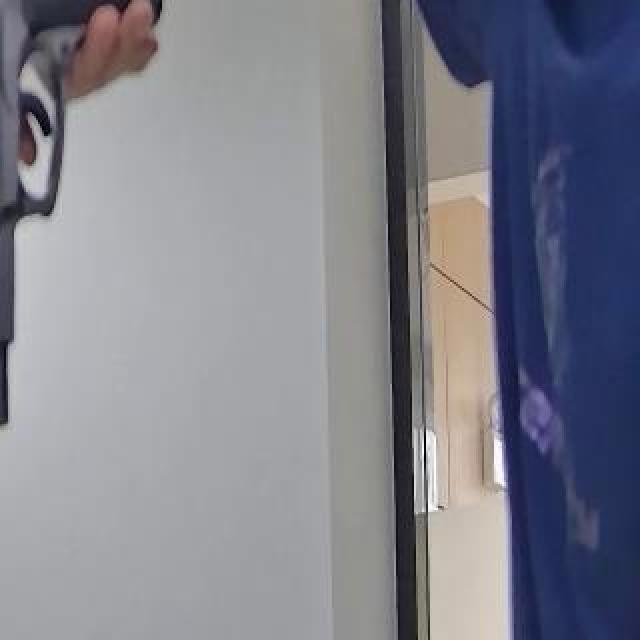Guns: (0, 0, 186, 454)
